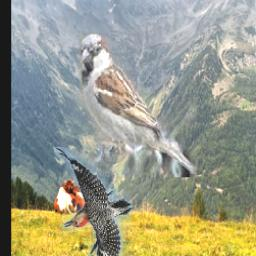Sparrow: (79, 32, 197, 177)
Woodpecker: (55, 148, 134, 256)
